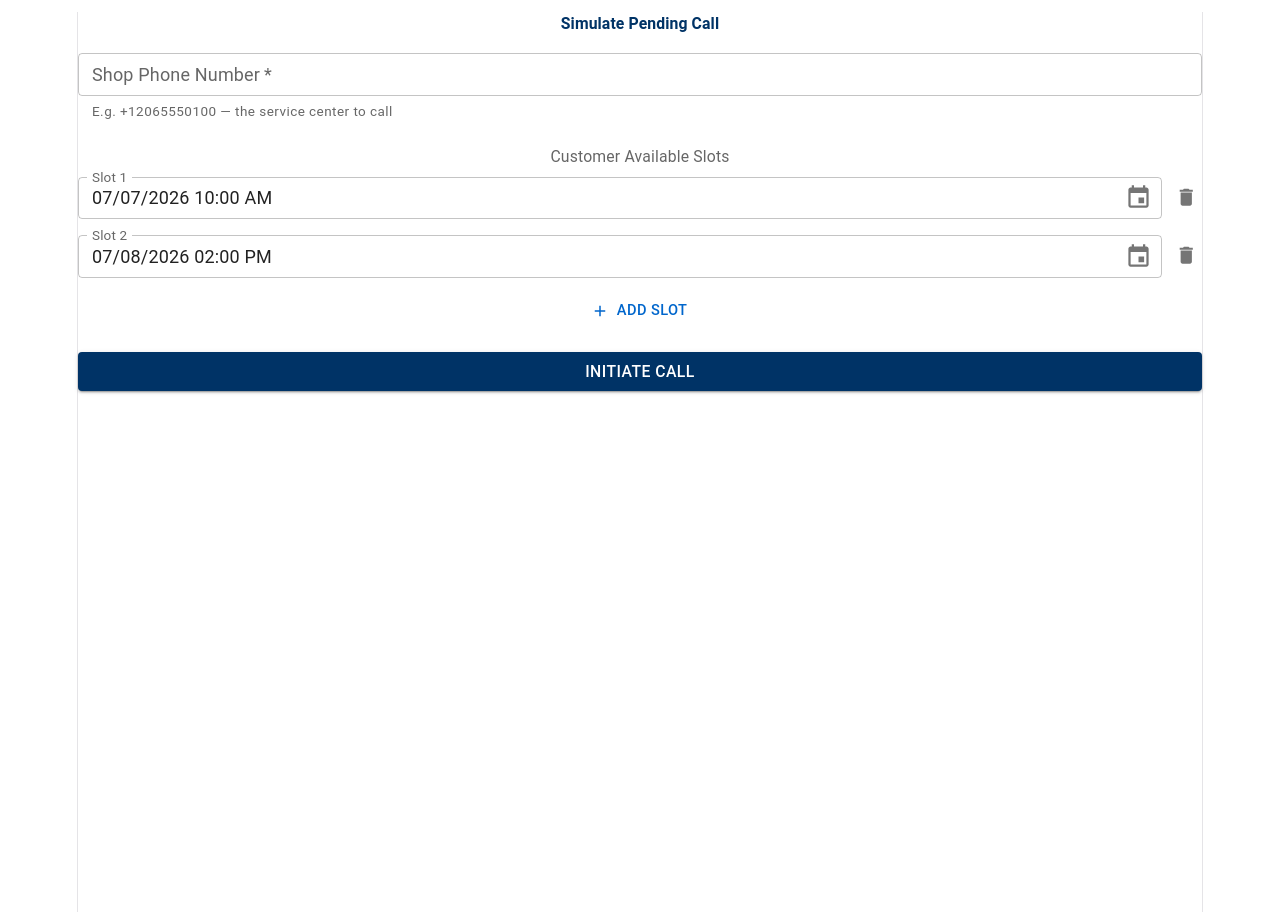
Test: PendingCallForm › (b) "Add Slot" button visible when fewer than 4 slots; hidden when 4 present
Click the button "Add Slot": (640, 311) [588, 294, 692, 328]
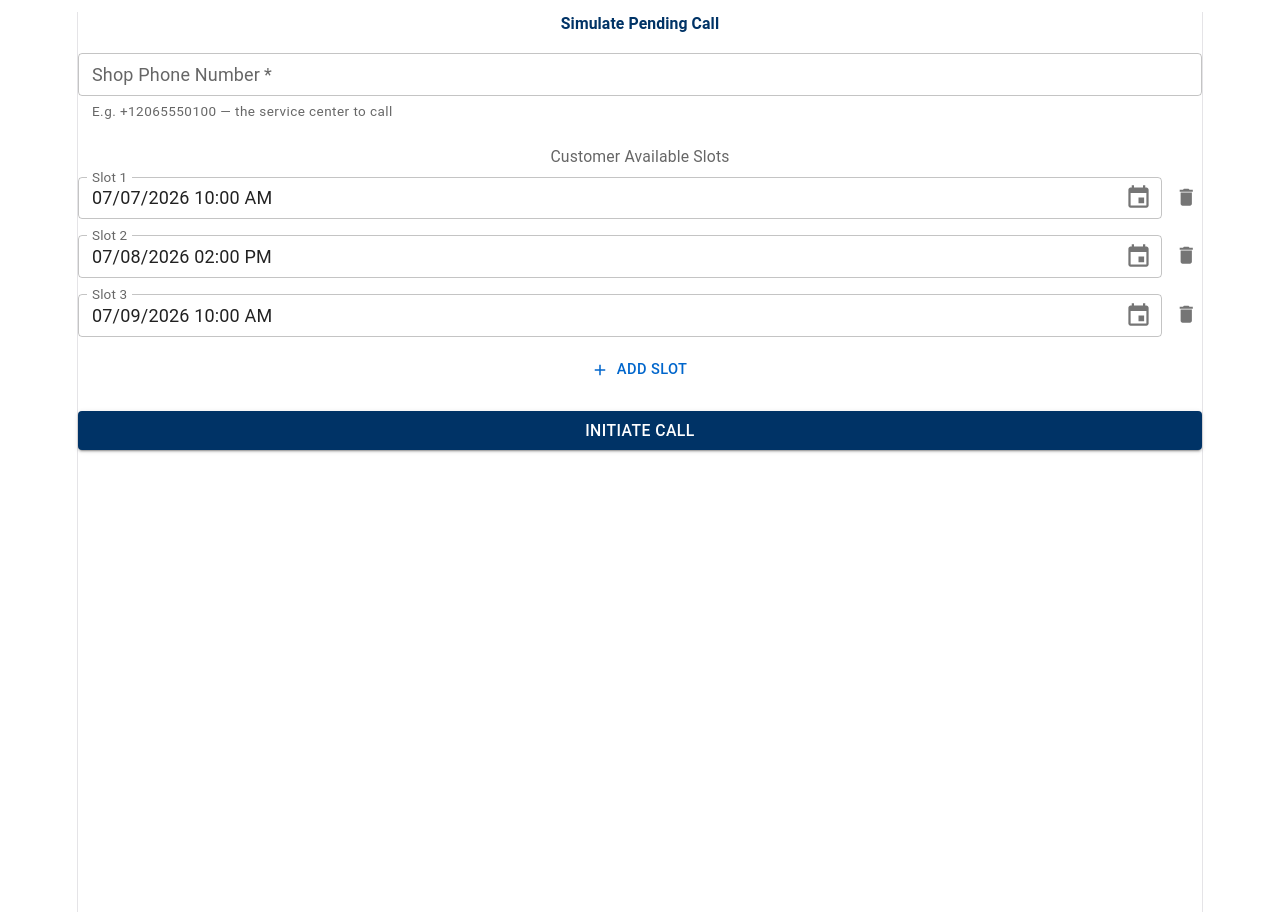
Expected: the element named "slot 3" is shown, [78, 294, 1162, 337]
Click the button "Add Slot": (640, 370) [588, 353, 692, 387]
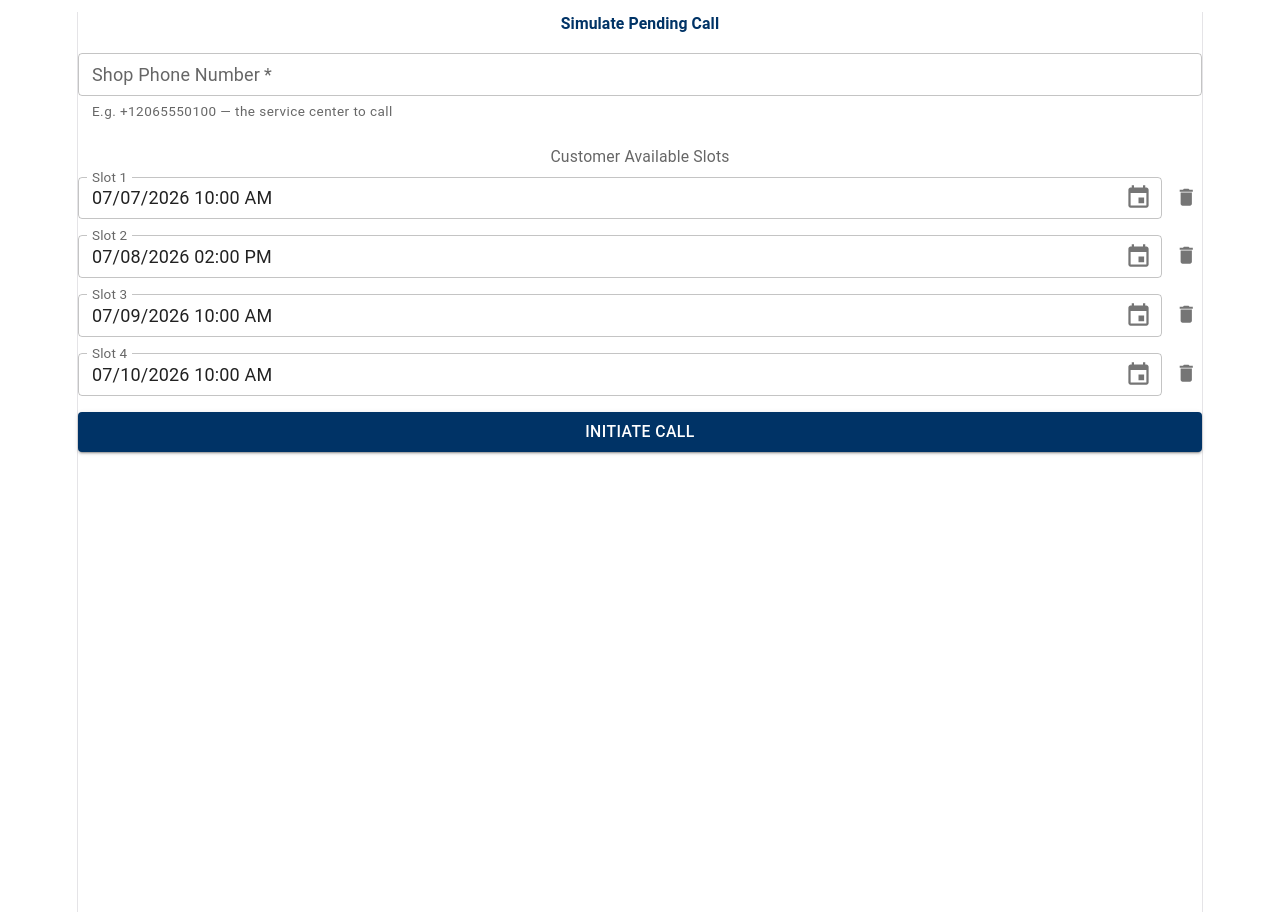
Expected: the element named "slot 4" is shown, [78, 353, 1162, 396]
Expected: the button "Add Slot" is gone
